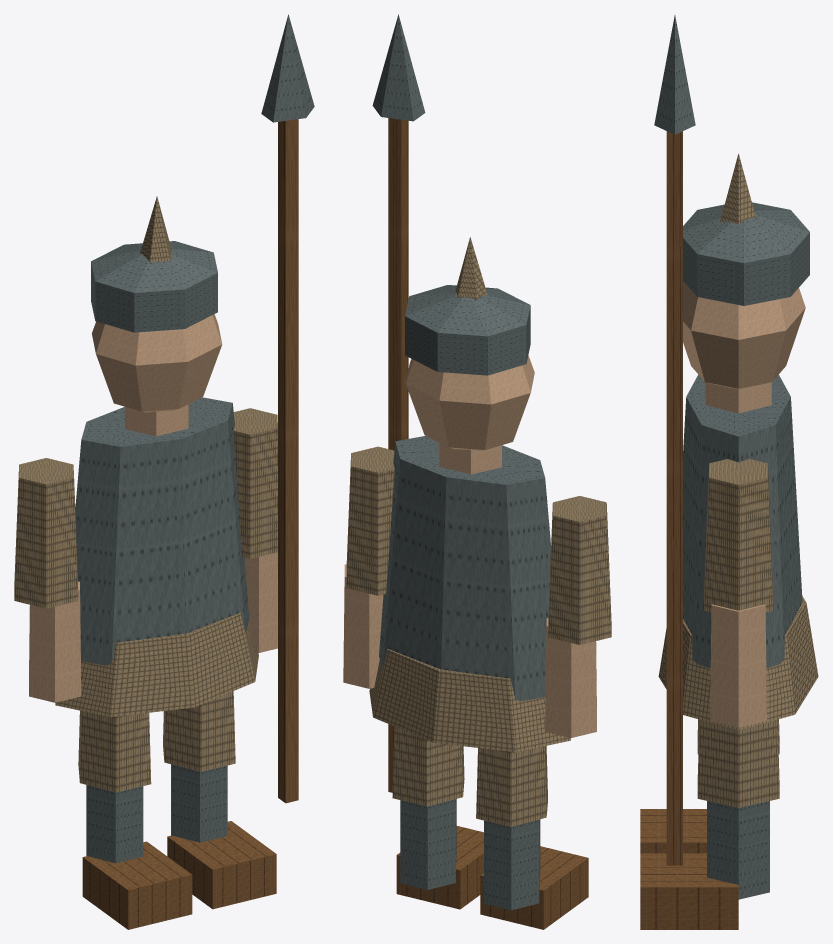
The model's file is unit-SPEAR-lod1.glb.
3 views of the same model, side by side, from view 1: azimuth 30°, elevation 25°; view 2: azimuth 150°, elevation 25°; view 3: azimuth 270°, elevation 25° (orthographic). The views are drawn at different scales.
Bounding box in the file's own units: 0.186 × 0.565 × 0.098.
Materials: 1 (1 with a texture image).
